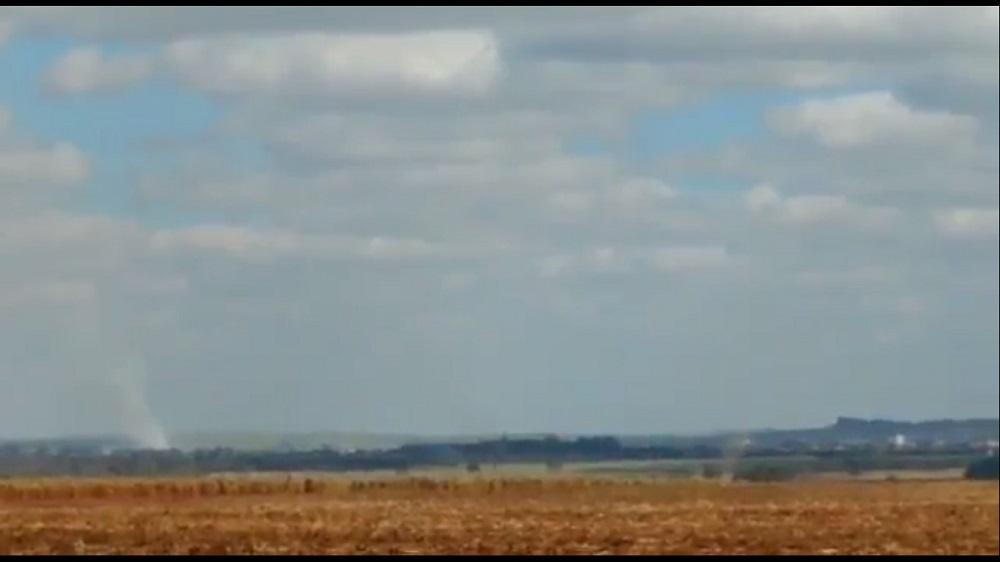smoke: (110, 376, 179, 451)
